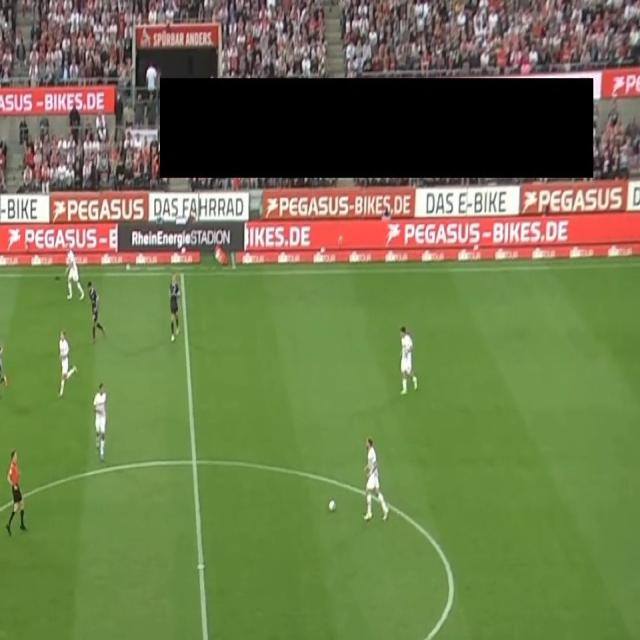ball: (328, 499, 336, 513)
